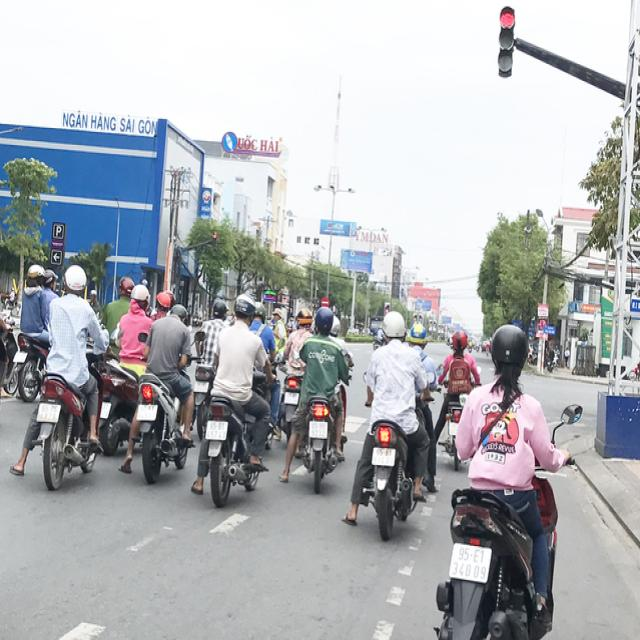helmet: (488, 321, 532, 368)
